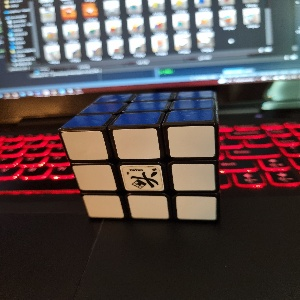cube: (57, 90, 220, 221)
